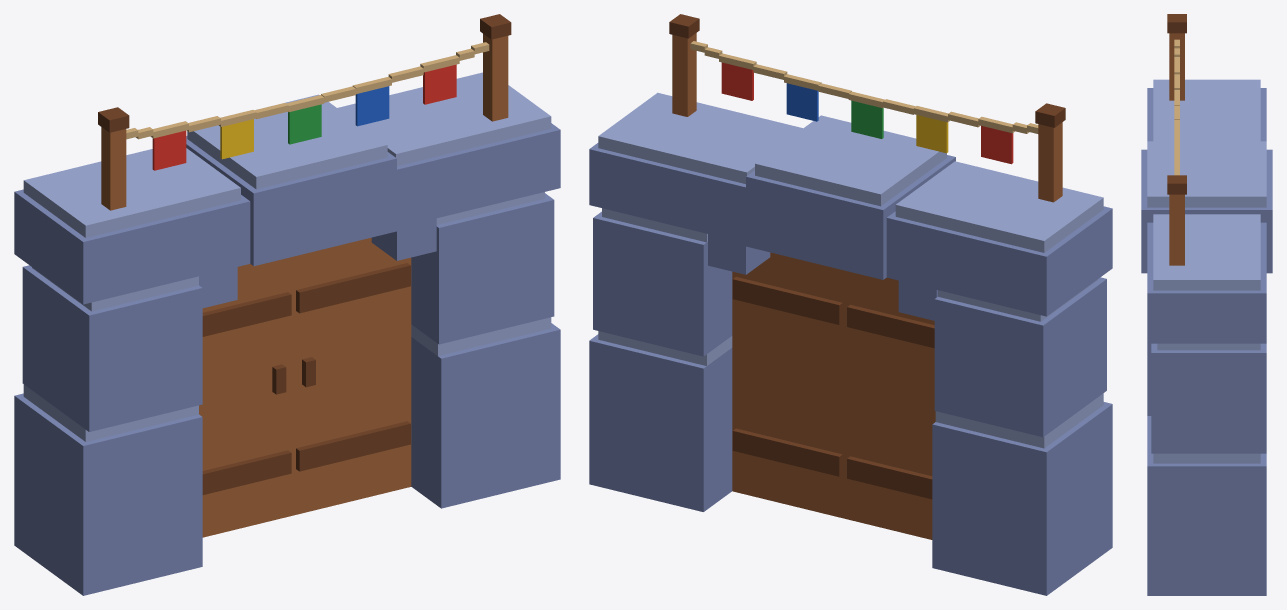
Rendered from Windswept_StoneGate.glb.
3 views of the same model, side by side, from view 1: azimuth 30°, elevation 25°; view 2: azimuth 150°, elevation 25°; view 3: azimuth 270°, elevation 25° (orthographic). The views are drawn at different scales.
Parts seen in each view (by area): view 1: Pillar_L_Low, Pillar_R_Low, Pillar_L_High, Pillar_R_High, Lintel_L, Lintel_Key, Lintel_L_Top, Lintel_R, Lintel_R_Top, Door_R_Plank_Mid, Door_R_Plank_Inner, Door_L_Plank_Inner (+21 smaller); view 2: Pillar_L_Low, Pillar_R_Low, Pillar_L_High, Pillar_R_High, Lintel_L, Lintel_Key, Lintel_L_Top, Lintel_R_Top, Lintel_Key_Top, Lintel_R, Door_R_Plank_Inner, Door_L_Plank_Inner (+21 smaller); view 3: Pillar_R_Low, Pillar_R_High, Lintel_R_Top, Lintel_R, Lintel_Key_Top, Lintel_L_Top, Lintel_Key, Pillar_R_Low_Top, FlagPost_R, Pillar_R_High_Top, FlagPost_L, Lintel_L (+3 smaller).
Part boxes in pixels (box(x1,y1,x2,y2)): Pillar_L_Low: box(14, 393, 202, 595); Pillar_R_Low: box(411, 323, 560, 508); Pillar_L_High: box(22, 265, 202, 431); Pillar_R_High: box(411, 193, 554, 344); Lintel_L: box(14, 189, 250, 304); Lintel_Key: box(186, 136, 396, 266); Lintel_L_Top: box(23, 148, 240, 237); Lintel_R: box(397, 123, 560, 227); Lintel_R_Top: box(337, 72, 551, 166); Door_R_Plank_Mid: box(332, 237, 371, 505); Door_R_Plank_Inner: box(292, 247, 331, 515); Door_L_Plank_Inner: box(252, 257, 291, 525); Pillar_L_Low: box(932, 402, 1112, 595); Pillar_R_Low: box(589, 334, 732, 511); Pillar_L_High: box(934, 277, 1106, 437); Pillar_R_High: box(593, 211, 732, 356); Lintel_L: box(886, 206, 1112, 316); Lintel_Key: box(746, 155, 955, 279); Lintel_L_Top: box(895, 161, 1103, 252); Lintel_R_Top: box(598, 92, 802, 183); Lintel_Key_Top: box(755, 115, 946, 206); Lintel_R: box(589, 143, 745, 243); Door_R_Plank_Inner: box(808, 262, 846, 518); Door_L_Plank_Inner: box(846, 271, 884, 528); Pillar_R_Low: box(1147, 416, 1266, 595); Pillar_R_High: box(1151, 343, 1266, 453); Lintel_R_Top: box(1153, 214, 1260, 290); Lintel_R: box(1147, 222, 1266, 343); Lintel_Key_Top: box(1147, 141, 1266, 207); Lintel_L_Top: box(1153, 79, 1260, 141); Lintel_Key: box(1141, 149, 1272, 273); Pillar_R_Low_Top: box(1153, 453, 1260, 463); FlagPost_R: box(1169, 194, 1184, 265); Pillar_R_High_Top: box(1157, 343, 1260, 350); FlagPost_L: box(1169, 33, 1184, 100); Lintel_L: box(1147, 88, 1266, 141).
Size of the model in its own units: 2.4 by 2.2 by 0.66.
